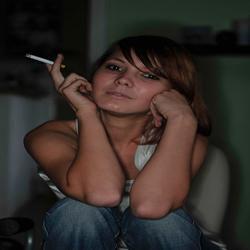smoking: (24, 50, 98, 114)
